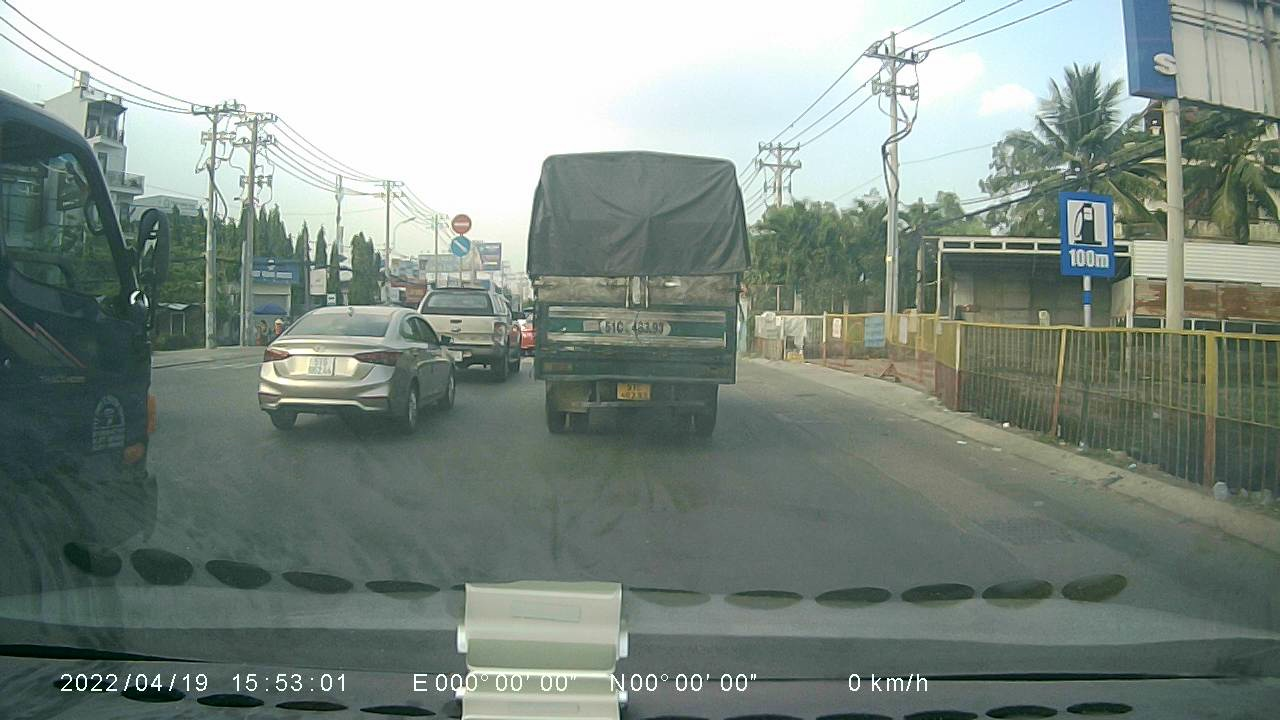Bien khac: (1057, 187, 1122, 280)
Cam di nguoc chieu: (451, 212, 472, 232)
Huong di phai re phai: (450, 235, 470, 257)
